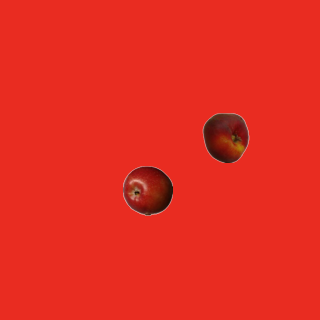Apple Braeburn: (122, 165, 172, 215)
Nectarine Flat: (200, 112, 250, 162)
